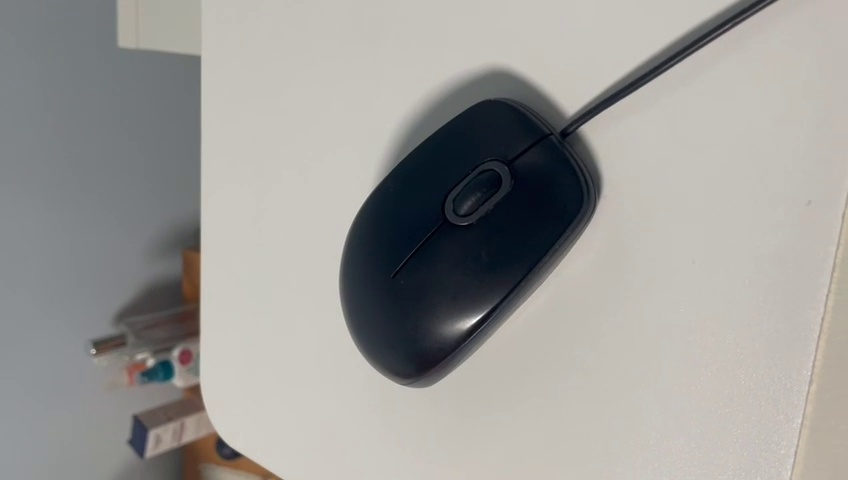objeto: (318, 73, 605, 409)
